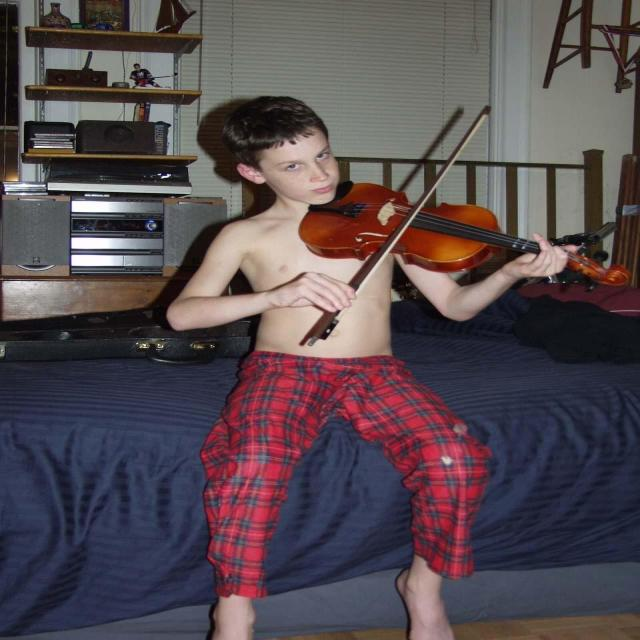violin: (296, 183, 638, 294)
